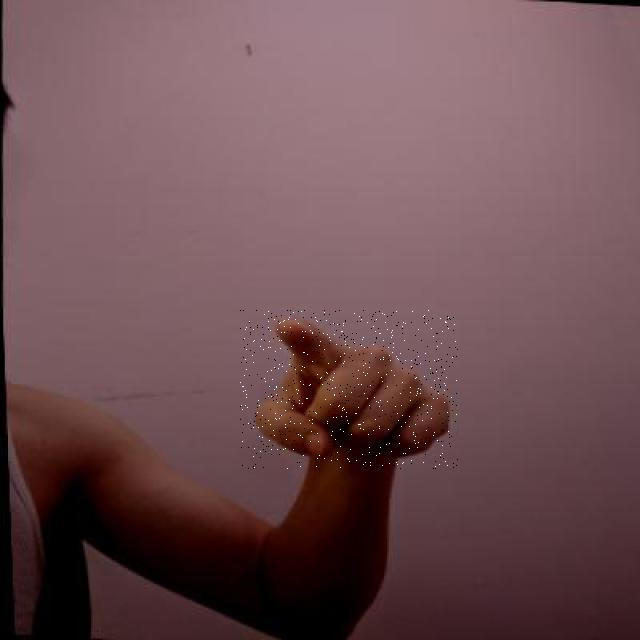Z: (240, 310, 458, 469)
